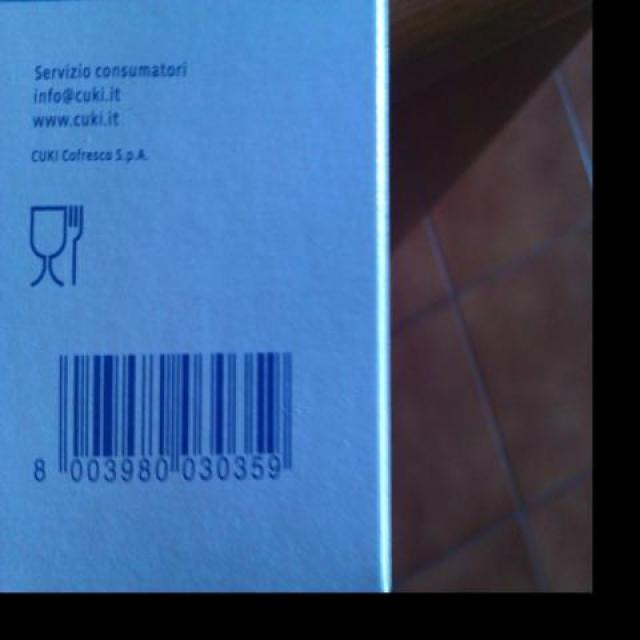Barcode: (25, 338, 314, 498)
